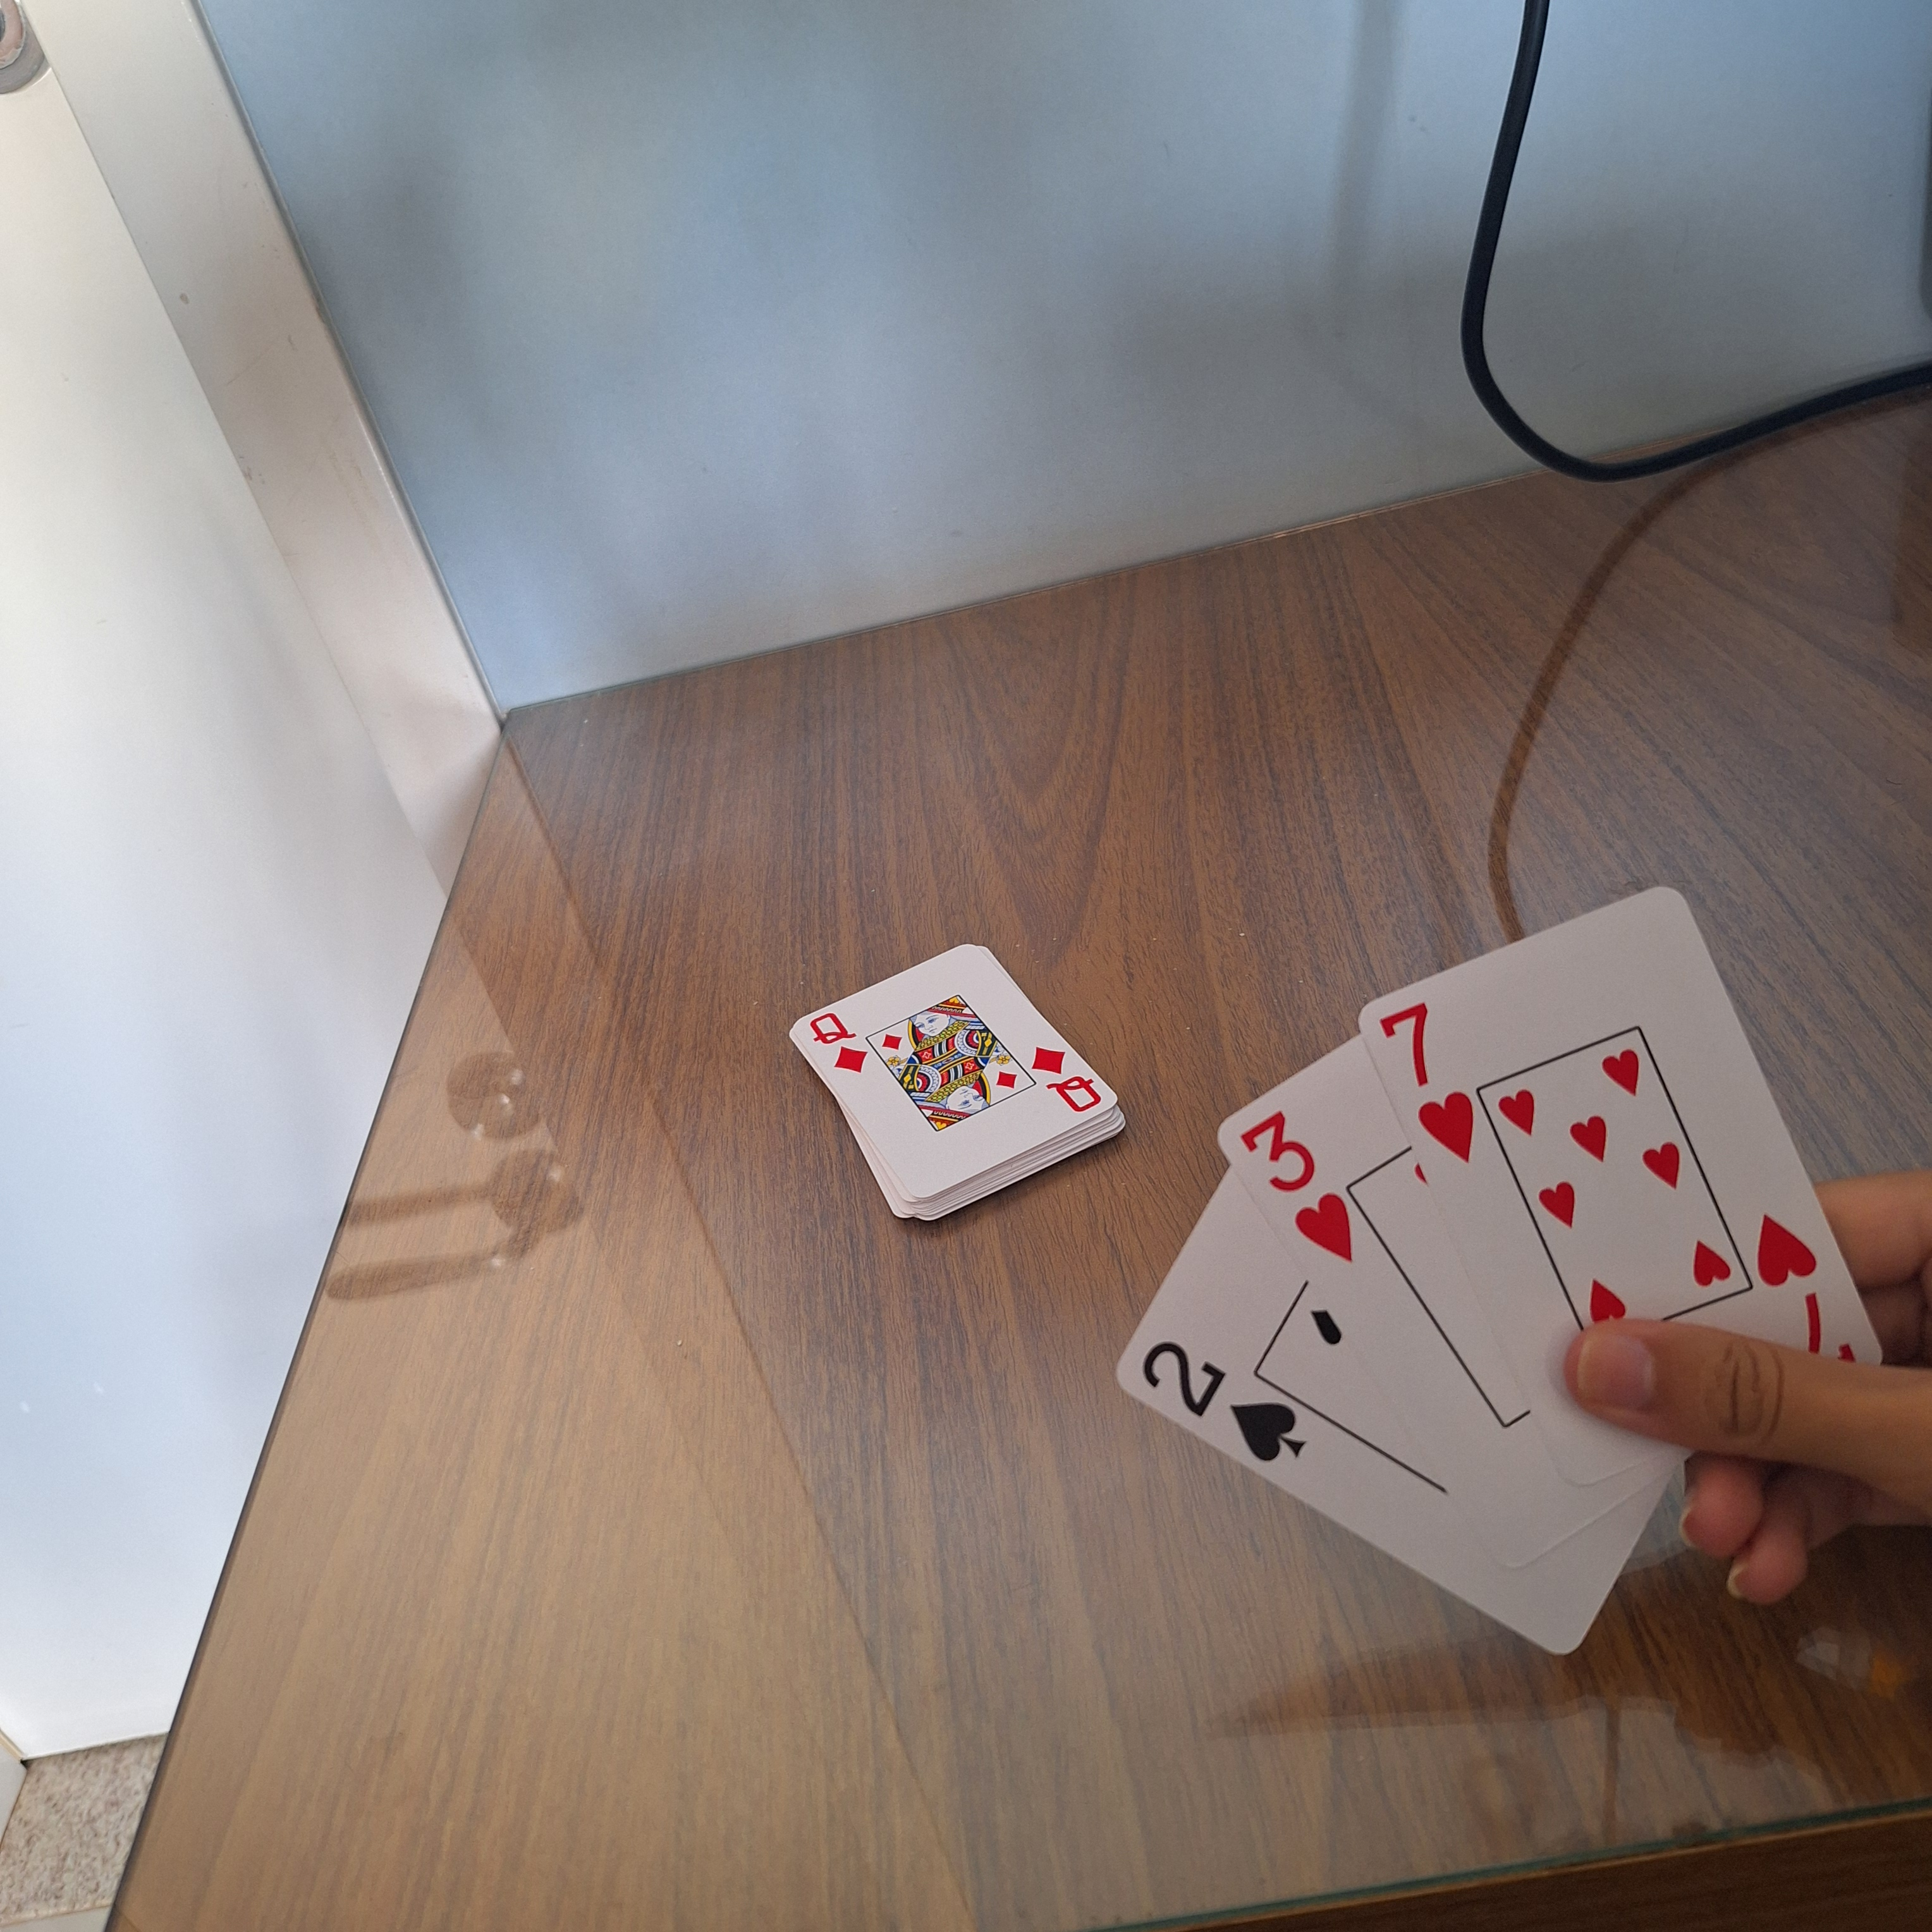2E: (1134, 1332, 1313, 1470)
3C: (1235, 1104, 1371, 1272)
7C: (1750, 1207, 1870, 1366), (1378, 993, 1483, 1166)
QO: (1028, 1042, 1104, 1116), (805, 1010, 872, 1076)
